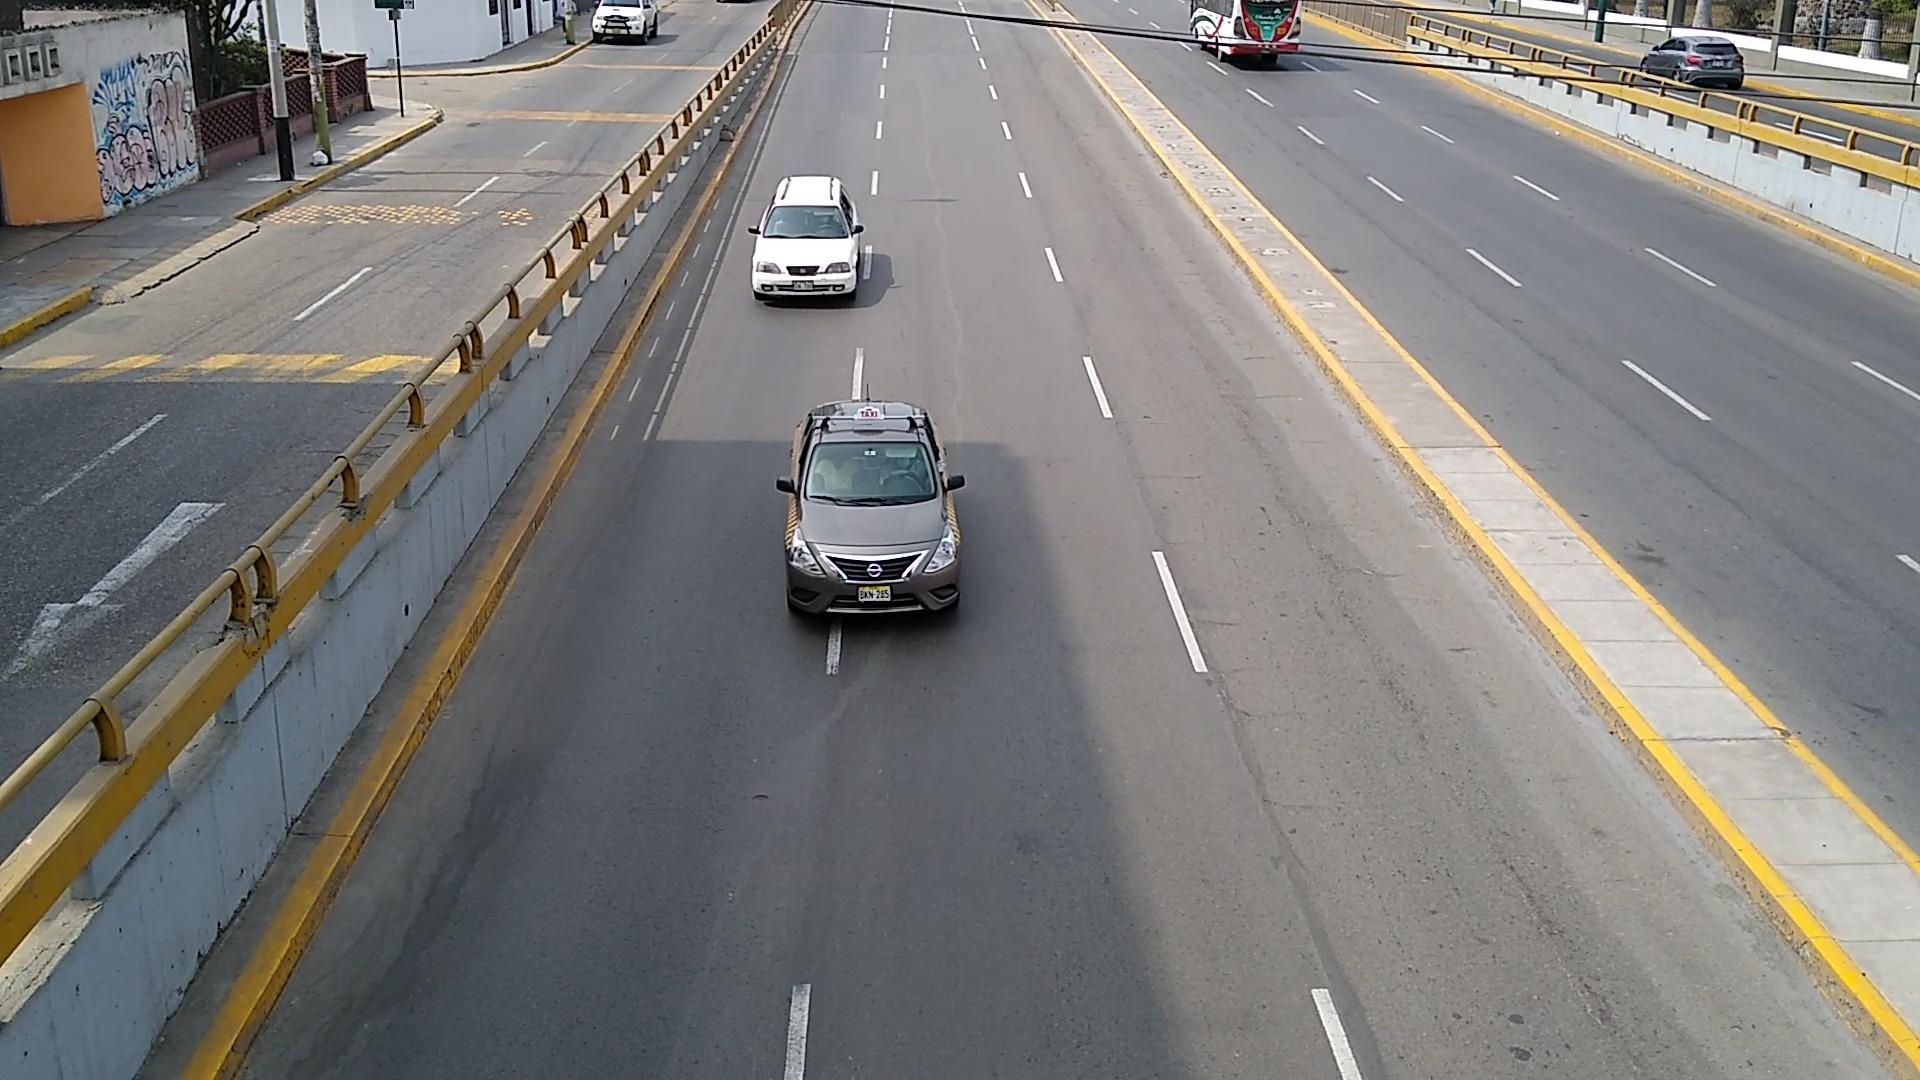car: (777, 401, 964, 615), (750, 177, 862, 301), (592, 0, 657, 41)
